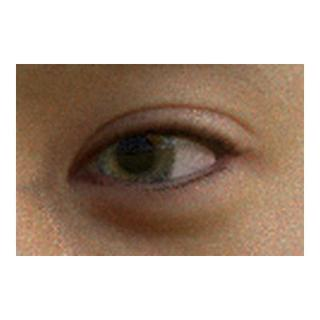pupil: (116, 135, 154, 173)
